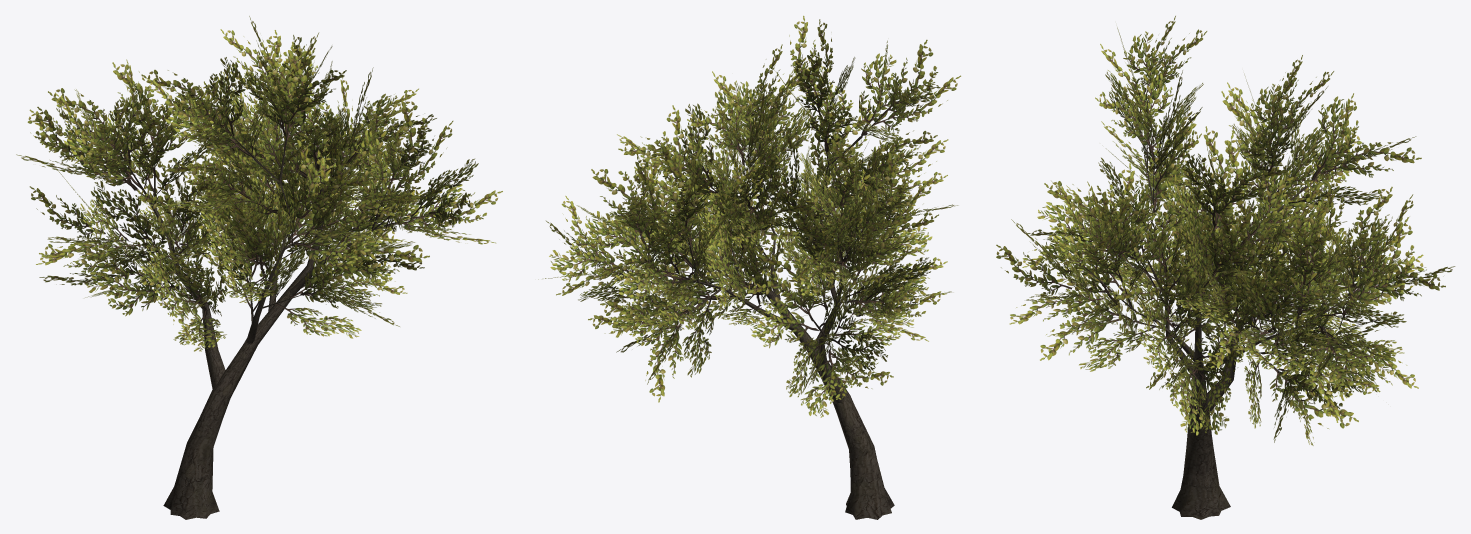
The model's file is tree5.glb.
3 renders of one model, left to right at view 1: azimuth 30°, elevation 25°; view 2: azimuth 150°, elevation 25°; view 3: azimuth 270°, elevation 25°, orthographic. The views are drawn at different scales.
Parts seen in each view (by area): view 1: Canopy 1, Spline Branch E001, Spline Branch A001, Spline Branch B001; view 2: Canopy 1, Spline Branch E001, Spline Branch A001; view 3: Canopy 1, Spline Branch E001, Spline Branch A001.
Part boxes in pixels (x1,y1,x2,y2): Canopy 1: [16, 16, 502, 351]; Spline Branch E001: [163, 181, 324, 519]; Spline Branch A001: [148, 194, 225, 388]; Spline Branch B001: [246, 158, 294, 343]; Canopy 1: [538, 15, 960, 417]; Spline Branch E001: [747, 198, 894, 519]; Spline Branch A001: [819, 261, 844, 403]; Canopy 1: [996, 16, 1455, 445]; Spline Branch E001: [1172, 278, 1230, 519]; Spline Branch A001: [1207, 219, 1270, 414].
Bounding box in the file's own units: 489 × 555 × 486.
2 materials, 2 textured.
